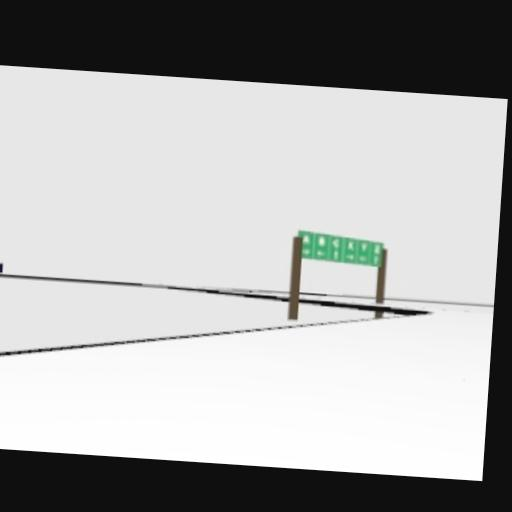A: (302, 235, 311, 246)
B: (317, 235, 326, 248)
C: (331, 238, 340, 249)
Left: (317, 249, 326, 258), (359, 254, 368, 262)
Right: (302, 248, 311, 257), (345, 254, 354, 261)
Straight: (333, 250, 340, 261), (373, 255, 380, 265)
X: (347, 240, 356, 251)
Y: (360, 241, 369, 254)
Z: (373, 243, 382, 255)
